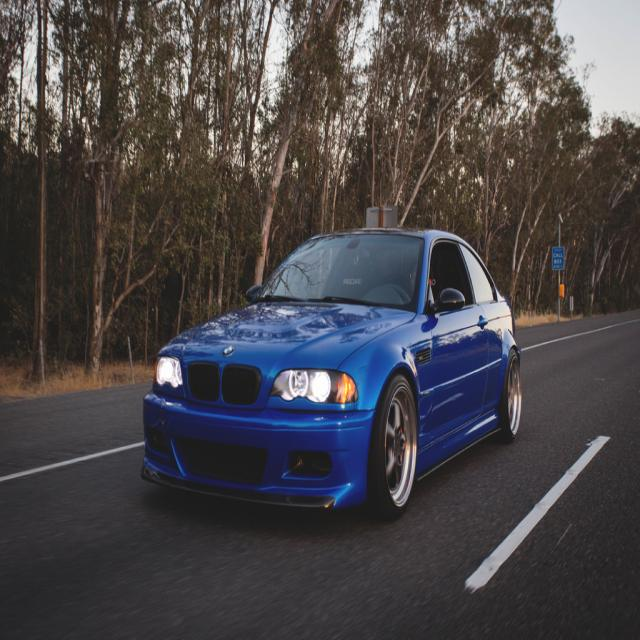car: (139, 217, 520, 517)
